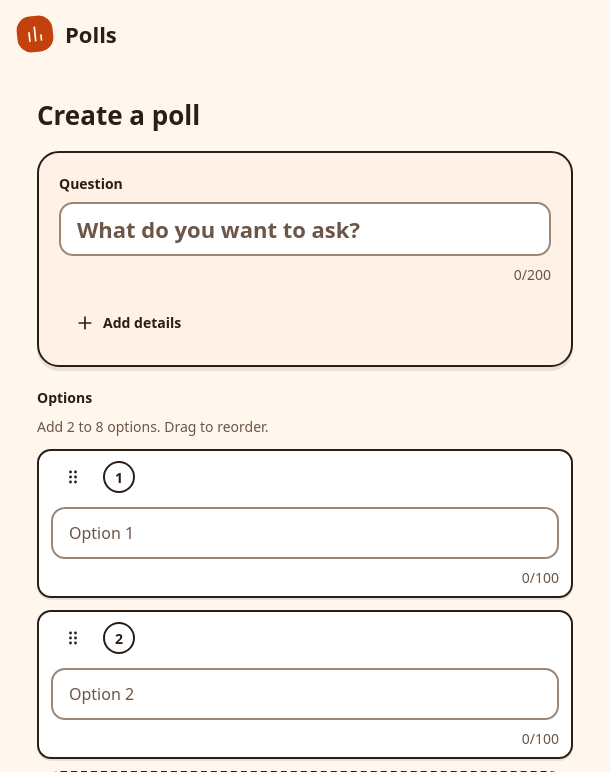
Scenario: CreatePollPage › a failed save shows the form error, keeps input, and unlocks the form
Type "  Where should we eat?  " into the text box labelled "Question" at [305, 229], box [59, 202, 551, 256]
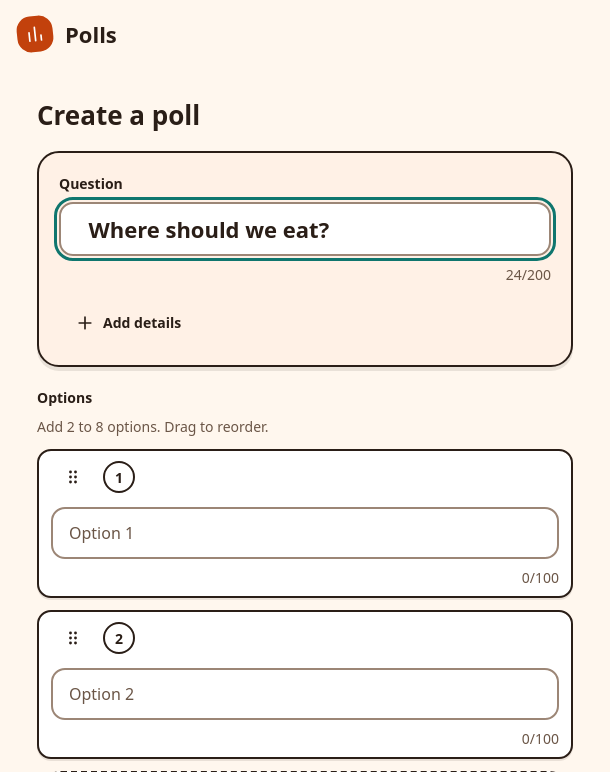
Type "Pizza" into the text box named "Option 1" at [305, 533], box [51, 507, 559, 559]
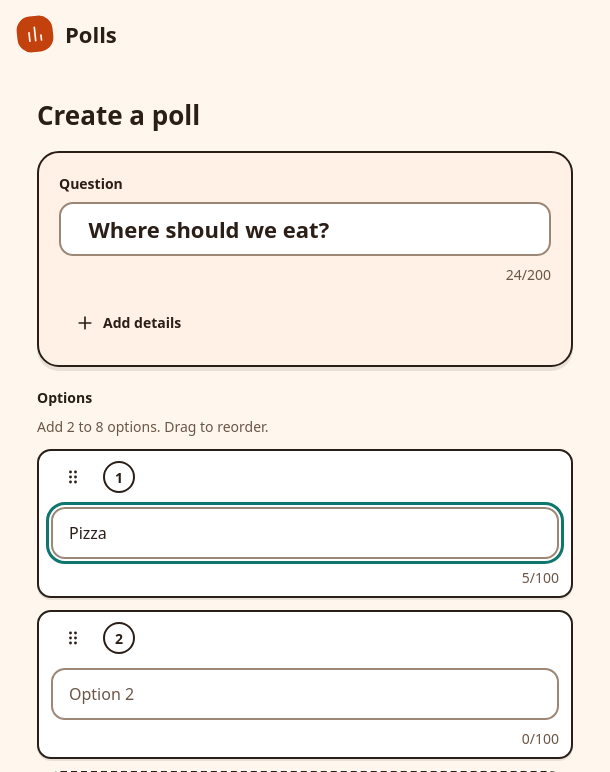
Type " Sushi " into the text box named "Option 2" at [305, 694], box [51, 668, 559, 720]
(page scrolled)
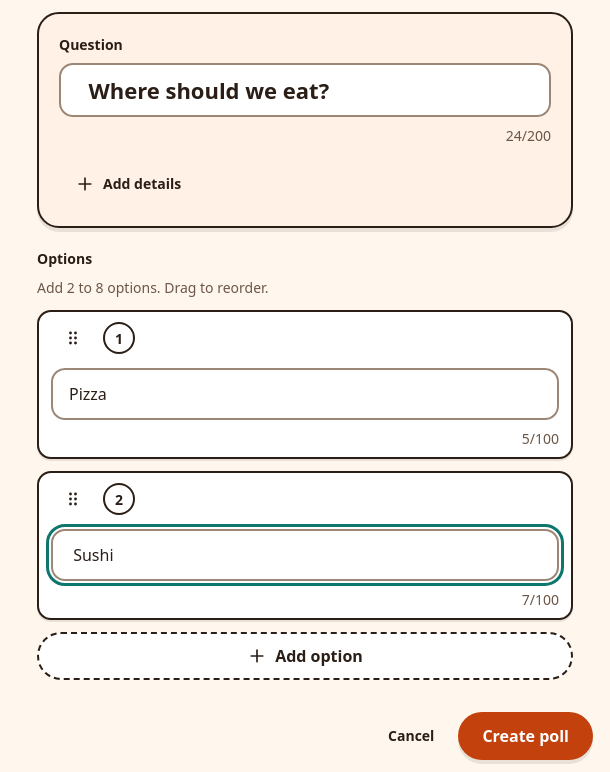
Click the button "Create poll" at [526, 736], box [458, 712, 593, 760]
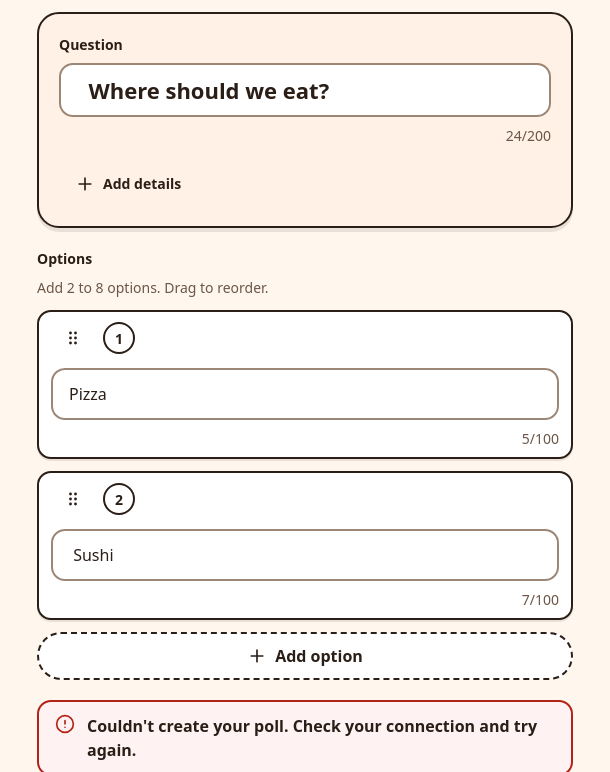
Expected: the message reads "Couldn't create your poll. Check your connection and try again.", [87, 715, 537, 761]
